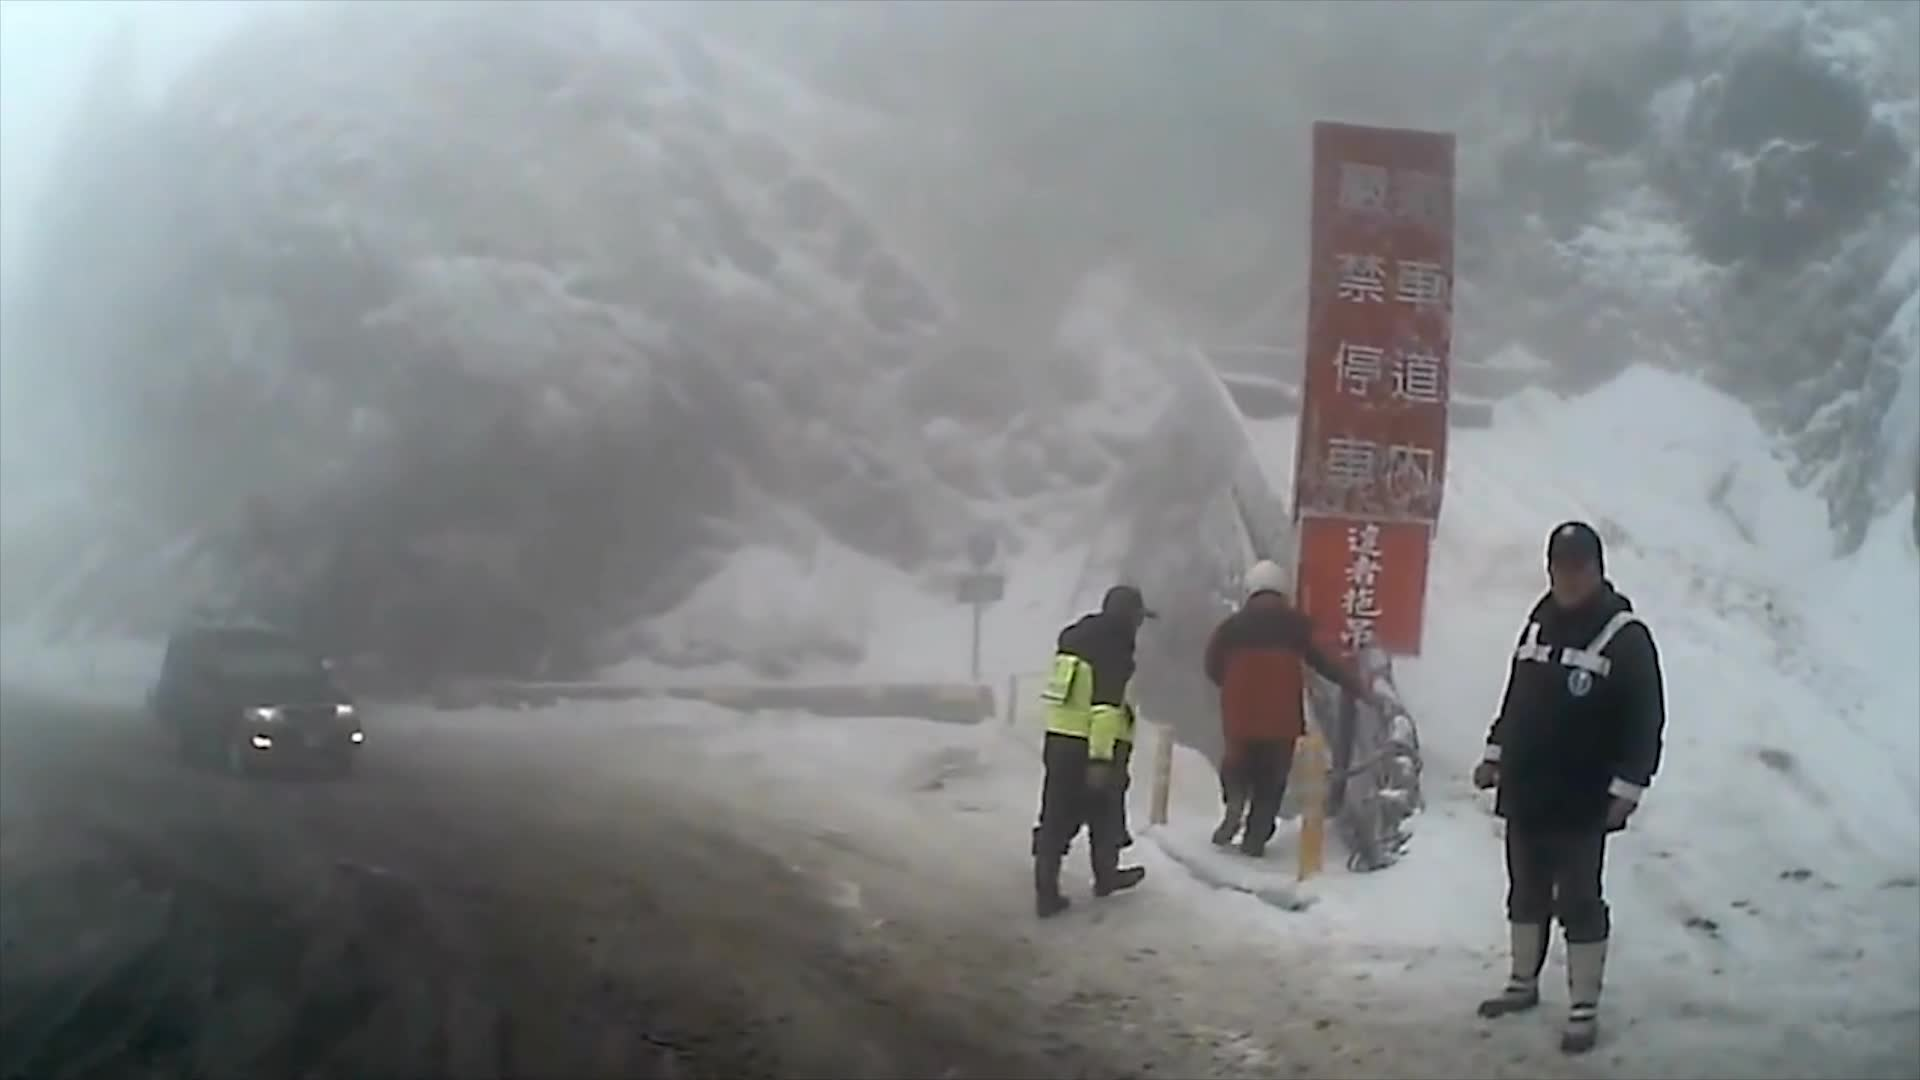pedestrian: (1479, 521, 1676, 1058), (1031, 588, 1156, 920), (1211, 555, 1345, 861)
vehicle: (158, 632, 368, 791)
